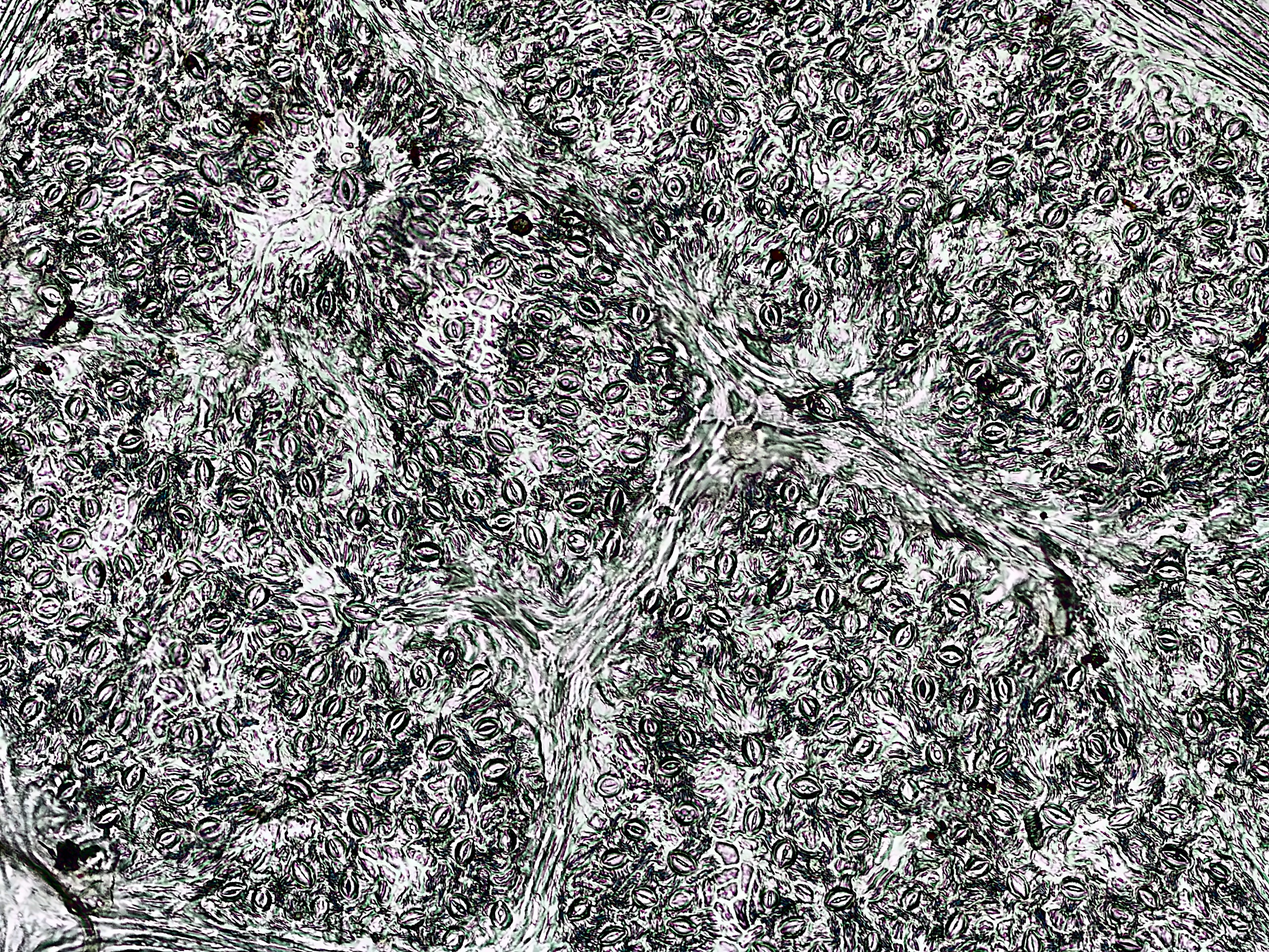stomata: (330, 169, 361, 210), (445, 893, 480, 925), (1081, 451, 1120, 477), (339, 599, 381, 622), (808, 391, 841, 419), (740, 733, 767, 767), (1146, 561, 1189, 582), (75, 494, 105, 524), (953, 683, 982, 714), (181, 50, 207, 84), (425, 733, 459, 759), (669, 801, 703, 827), (1040, 803, 1074, 829), (856, 569, 891, 594), (198, 153, 223, 188), (1144, 301, 1169, 336), (787, 776, 825, 799), (1221, 680, 1248, 712), (479, 252, 512, 278), (461, 379, 490, 408), (485, 898, 513, 928), (1004, 869, 1032, 899), (484, 430, 515, 457), (910, 673, 937, 704), (341, 660, 368, 691), (646, 214, 673, 245), (791, 520, 817, 552), (1042, 155, 1074, 181), (345, 499, 370, 532), (758, 298, 783, 331), (527, 262, 561, 286), (404, 214, 438, 238), (1226, 560, 1263, 582), (419, 496, 449, 523), (991, 674, 1018, 704), (231, 448, 258, 478), (770, 838, 797, 868), (924, 740, 951, 770), (381, 501, 407, 532), (282, 775, 313, 801), (1234, 648, 1265, 674), (523, 522, 548, 554), (424, 396, 456, 421), (238, 2, 274, 24), (916, 49, 949, 73), (766, 571, 794, 599), (942, 591, 972, 617), (732, 165, 762, 191), (122, 615, 152, 641), (429, 802, 455, 832), (572, 295, 603, 320), (315, 288, 340, 319), (409, 187, 444, 209), (34, 284, 69, 306), (364, 777, 402, 797), (52, 528, 85, 551), (346, 807, 373, 835), (320, 391, 349, 417), (997, 105, 1026, 131), (962, 358, 991, 384), (81, 638, 107, 667), (501, 477, 526, 507), (667, 850, 697, 875), (1172, 123, 1197, 153), (115, 259, 149, 281), (468, 716, 502, 738), (1159, 843, 1190, 867), (601, 529, 624, 561), (167, 192, 199, 215), (978, 422, 1010, 445), (168, 265, 196, 291), (152, 829, 185, 851), (560, 492, 590, 516), (259, 554, 289, 578), (891, 337, 922, 360), (63, 611, 94, 634), (587, 265, 619, 287), (964, 13, 986, 45), (1205, 189, 1237, 211), (936, 298, 962, 325), (1042, 202, 1069, 228), (604, 484, 624, 519), (891, 622, 916, 650), (934, 647, 969, 667), (248, 667, 283, 687), (1097, 405, 1122, 433), (2, 536, 30, 561), (1133, 478, 1168, 498), (800, 203, 824, 232), (825, 116, 854, 140), (761, 50, 790, 74), (1084, 732, 1108, 761), (1221, 118, 1250, 142), (561, 235, 594, 256), (833, 790, 866, 811), (195, 818, 225, 841), (593, 773, 623, 796), (987, 804, 1017, 827), (410, 542, 446, 561), (111, 2, 142, 24), (24, 497, 55, 519), (822, 886, 853, 908), (641, 346, 675, 366), (564, 529, 589, 556), (1122, 220, 1147, 247), (93, 805, 120, 830), (1227, 273, 1252, 300), (626, 302, 654, 326), (713, 551, 737, 579), (549, 116, 581, 137), (1094, 182, 1118, 210), (480, 758, 508, 782), (597, 925, 629, 946), (944, 911, 968, 939), (600, 380, 629, 403), (668, 657, 697, 680), (383, 352, 405, 382), (1062, 79, 1092, 101), (1141, 152, 1171, 174), (200, 612, 231, 633), (41, 182, 66, 208), (833, 75, 858, 101), (1093, 368, 1119, 393), (461, 486, 485, 513), (765, 254, 789, 281), (833, 217, 857, 244), (944, 196, 968, 223), (161, 97, 185, 124), (73, 186, 100, 210), (797, 12, 824, 36), (742, 806, 766, 833), (1170, 183, 1194, 210), (703, 605, 731, 628), (147, 461, 170, 489), (461, 205, 493, 225), (395, 271, 424, 293), (799, 286, 821, 315), (247, 138, 276, 160), (106, 68, 135, 90), (291, 858, 313, 887), (510, 339, 540, 360), (18, 247, 48, 268), (1077, 138, 1098, 168), (1111, 321, 1132, 351), (1152, 805, 1187, 823), (1040, 462, 1070, 483), (305, 661, 330, 686), (1091, 680, 1116, 705), (421, 440, 445, 466), (738, 661, 764, 685), (870, 685, 894, 711), (243, 584, 269, 608), (330, 48, 356, 72), (339, 718, 363, 744), (441, 925, 465, 951), (401, 457, 424, 484), (443, 261, 466, 288), (701, 197, 724, 224), (264, 57, 291, 80), (112, 136, 135, 163), (103, 380, 130, 403), (910, 96, 937, 119), (947, 391, 974, 414), (1059, 349, 1086, 372), (84, 561, 107, 588), (121, 764, 144, 791), (59, 153, 90, 173), (861, 22, 892, 42), (666, 917, 697, 937), (288, 272, 310, 300), (302, 411, 324, 439), (168, 505, 196, 527), (772, 103, 800, 125), (718, 78, 746, 100), (601, 52, 629, 74), (1054, 407, 1082, 429), (656, 756, 684, 778), (897, 776, 919, 804), (555, 371, 584, 392), (780, 478, 801, 507), (278, 430, 299, 459), (300, 511, 321, 540), (173, 558, 202, 579), (675, 30, 704, 51), (1154, 629, 1183, 650), (459, 449, 484, 473), (1193, 280, 1213, 310), (1245, 239, 1265, 269), (224, 484, 250, 507), (238, 81, 264, 104), (254, 169, 280, 192), (825, 38, 851, 61), (337, 875, 360, 901), (1240, 453, 1266, 476), (529, 306, 556, 328), (815, 583, 837, 610), (798, 694, 820, 721), (415, 102, 442, 124), (963, 856, 990, 878), (841, 608, 860, 639), (194, 456, 213, 487), (165, 784, 196, 803), (449, 774, 468, 805), (409, 660, 430, 688), (139, 225, 167, 246), (117, 429, 145, 450), (994, 379, 1022, 400), (1060, 878, 1088, 899), (1231, 395, 1252, 423), (618, 442, 647, 462), (270, 640, 294, 664), (466, 663, 490, 687), (66, 77, 90, 101), (428, 153, 460, 171), (839, 525, 864, 548), (864, 216, 887, 241), (821, 669, 843, 695), (856, 128, 878, 154), (401, 813, 423, 839), (76, 741, 106, 760), (1201, 862, 1231, 881), (910, 125, 931, 152), (44, 640, 65, 667), (987, 748, 1014, 769), (550, 446, 578, 466), (487, 511, 515, 531), (902, 283, 930, 303), (1039, 48, 1067, 68), (985, 158, 1013, 178), (1009, 341, 1037, 361), (65, 701, 85, 729), (630, 887, 658, 907), (1188, 704, 1208, 732), (668, 598, 691, 622), (849, 656, 872, 680), (662, 175, 685, 199), (893, 246, 916, 270), (1148, 249, 1172, 272), (179, 724, 202, 748), (385, 709, 408, 733), (1116, 133, 1135, 162), (1106, 808, 1135, 827), (63, 451, 88, 473), (497, 826, 519, 851), (140, 36, 161, 62), (851, 737, 877, 758), (353, 17, 373, 44), (1011, 293, 1038, 313), (397, 909, 424, 929), (295, 470, 314, 498), (1206, 152, 1234, 171), (383, 390, 406, 413), (861, 50, 884, 73), (792, 883, 815, 906), (285, 694, 309, 716), (321, 692, 343, 716), (1050, 278, 1074, 300), (640, 714, 662, 738), (675, 725, 697, 749), (1030, 700, 1054, 722), (1203, 428, 1227, 450), (444, 318, 465, 343), (748, 512, 773, 533), (669, 90, 690, 115), (1068, 109, 1093, 130), (36, 597, 61, 618), (215, 713, 236, 738), (357, 746, 382, 767), (1170, 384, 1195, 405), (553, 399, 580, 418), (135, 299, 162, 318), (760, 885, 779, 912), (843, 831, 870, 850), (71, 227, 103, 243), (1197, 220, 1229, 236), (1094, 287, 1116, 310), (30, 566, 52, 589), (567, 899, 590, 921), (1112, 727, 1134, 750), (63, 398, 87, 419), (8, 432, 32, 453), (108, 709, 129, 733), (252, 887, 273, 911), (668, 890, 694, 909), (823, 716, 849, 735), (1158, 410, 1177, 436), (190, 241, 217, 259), (621, 820, 648, 838), (93, 682, 115, 704), (641, 589, 662, 612), (49, 420, 70, 443), (554, 76, 575, 99), (947, 107, 968, 130), (243, 528, 267, 548), (115, 554, 135, 578), (18, 697, 38, 721), (990, 195, 1009, 220), (1016, 247, 1041, 266), (1031, 386, 1050, 411), (310, 896, 329, 921), (897, 190, 923, 208), (287, 103, 313, 121), (454, 840, 472, 866), (898, 890, 924, 908), (1066, 666, 1084, 692), (1071, 773, 1100, 789), (830, 255, 851, 277), (974, 273, 995, 295), (210, 114, 231, 136), (621, 183, 644, 203), (881, 306, 901, 329), (1136, 889, 1159, 909), (210, 769, 237, 786), (599, 849, 626, 866), (719, 105, 738, 129), (440, 643, 458, 668), (693, 112, 711, 137), (557, 209, 585, 225), (1144, 121, 1165, 142), (496, 11, 516, 33), (325, 836, 345, 858), (502, 376, 525, 395), (1113, 938, 1144, 952), (237, 402, 255, 426), (647, 3, 671, 21), (523, 94, 547, 112), (201, 511, 218, 536), (520, 65, 546, 81), (659, 384, 683, 401), (217, 883, 244, 898), (781, 920, 806, 936), (773, 170, 791, 192), (391, 73, 409, 95), (59, 265, 85, 280), (732, 6, 753, 24), (1024, 930, 1041, 952), (1217, 750, 1239, 765), (864, 932, 879, 952), (951, 827, 968, 840)
